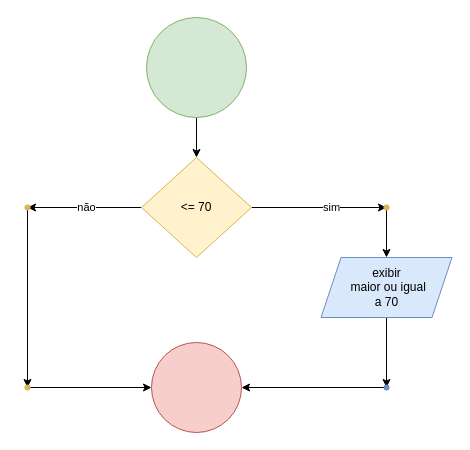
Image size: 470x450. Some labels were removed from this diagram. The shapes that lost their labels are listed below. From the top down, each one's centre as x and y in pixels, then its label:
the point at 196,67: inicio
the point at 196,387: fim
